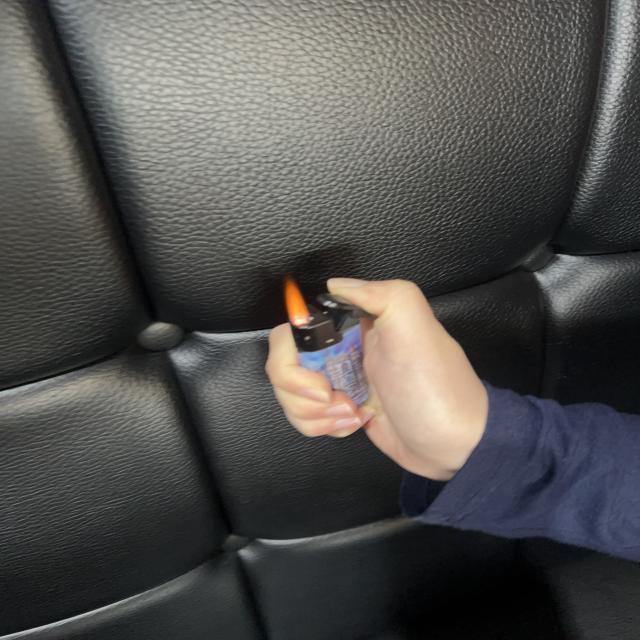fire: (282, 278, 312, 332)
